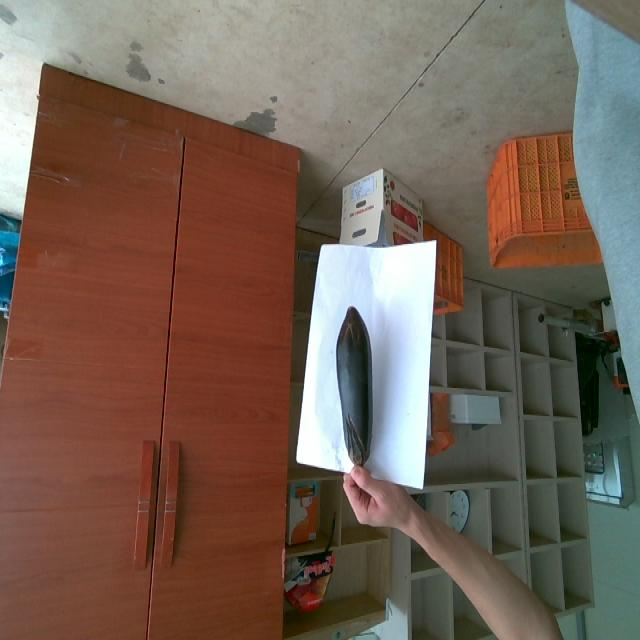Egg plant: (336, 308, 372, 465)
